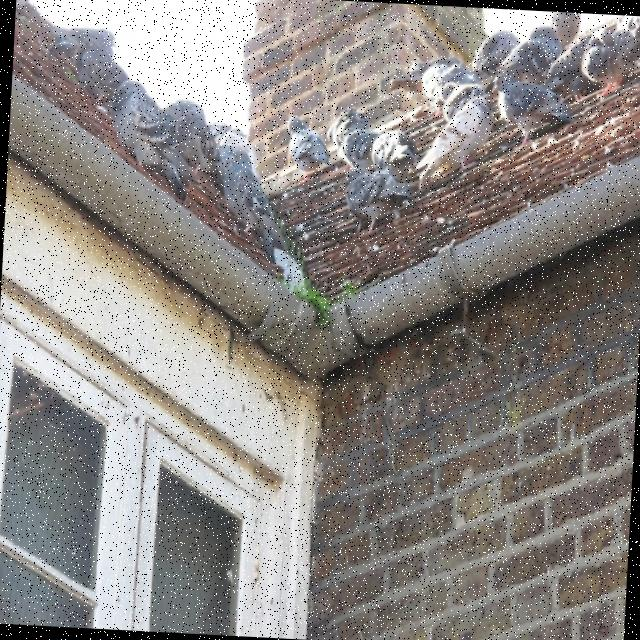bird: (103, 79, 199, 204), (212, 144, 292, 263), (410, 87, 496, 193), (45, 25, 134, 114), (327, 105, 421, 182), (492, 74, 576, 153), (342, 165, 418, 238), (171, 108, 230, 196), (580, 15, 640, 97), (284, 115, 334, 181), (207, 121, 263, 178), (160, 98, 206, 137)
